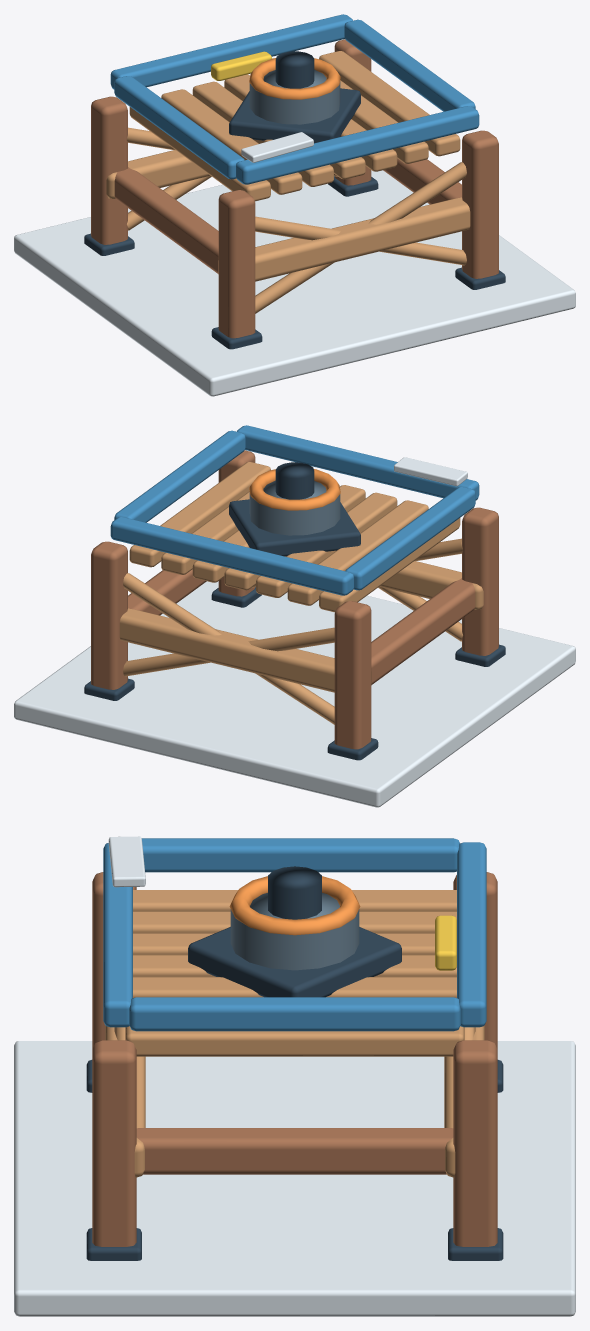
File: defense_platform.glb
The picture shows the model from 3 angles, top to bottom: view 1: azimuth 30°, elevation 25°; view 2: azimuth 150°, elevation 25°; view 3: azimuth 270°, elevation 25°; orthographic projection. The views are drawn at different scales.
Visible parts, largest first — view 1: defense_platform; view 2: defense_platform; view 3: defense_platform.
Boxes of the visible parts, x1,y1,x2,y2 form: defense_platform: (14,14,575,396); defense_platform: (14,425,575,807); defense_platform: (14,836,575,1316).
Bounding box in the file's own units: 3.25 × 1.88 × 3.05.
